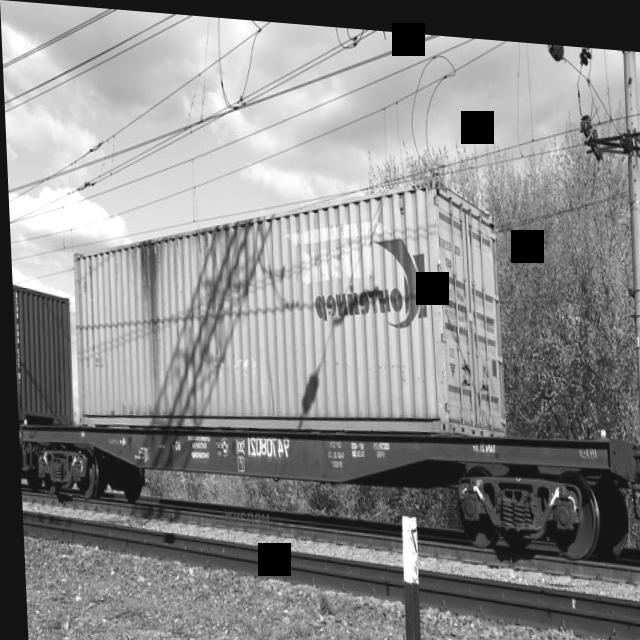container: (60, 127, 516, 464), (10, 276, 73, 430)
flatcar: (14, 382, 640, 568)
